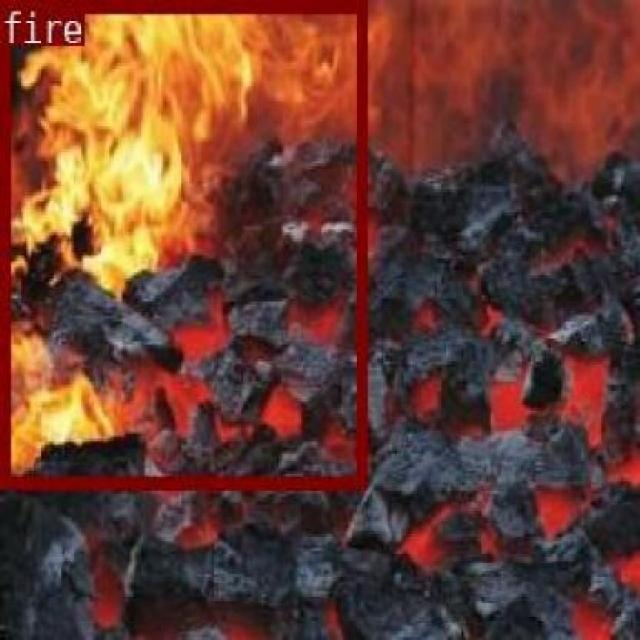Fire: (0, 0, 365, 485)
